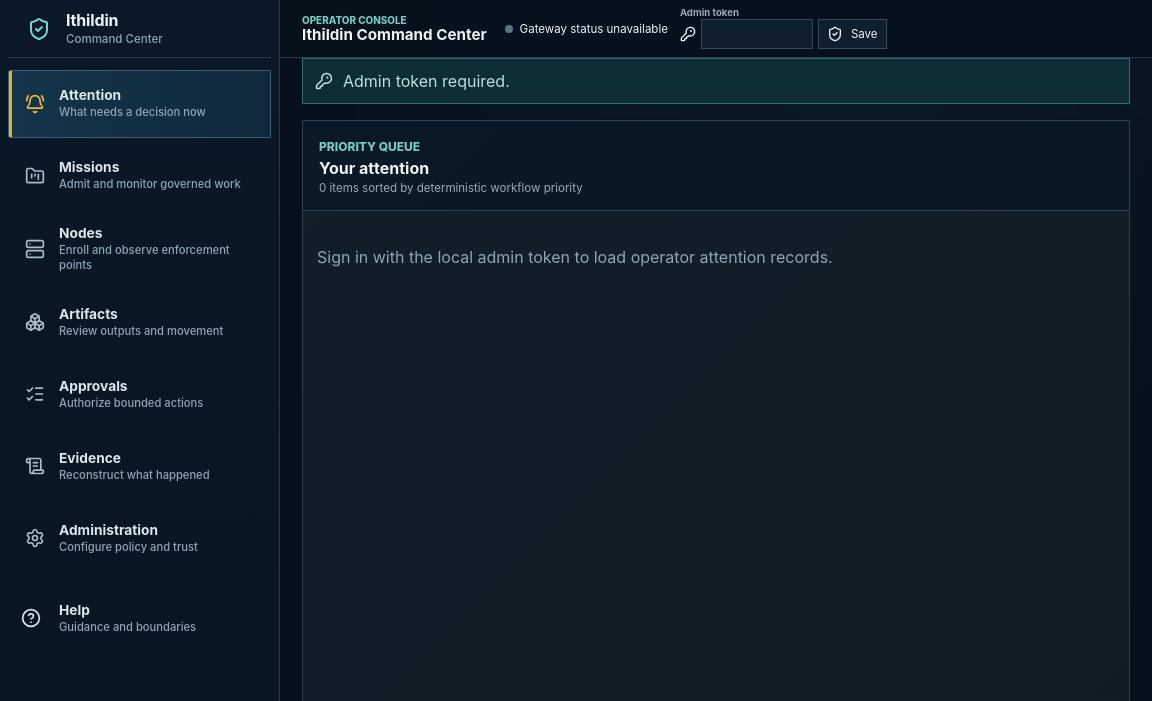
Test: Review console interactions › keeps Node evidence-origin parity unavailable when snapshot loading fails
The image size is (1152, 701).
Type "local-token" into the password field labelled "Admin token". click: (757, 34)
box: [701,19,813,49]
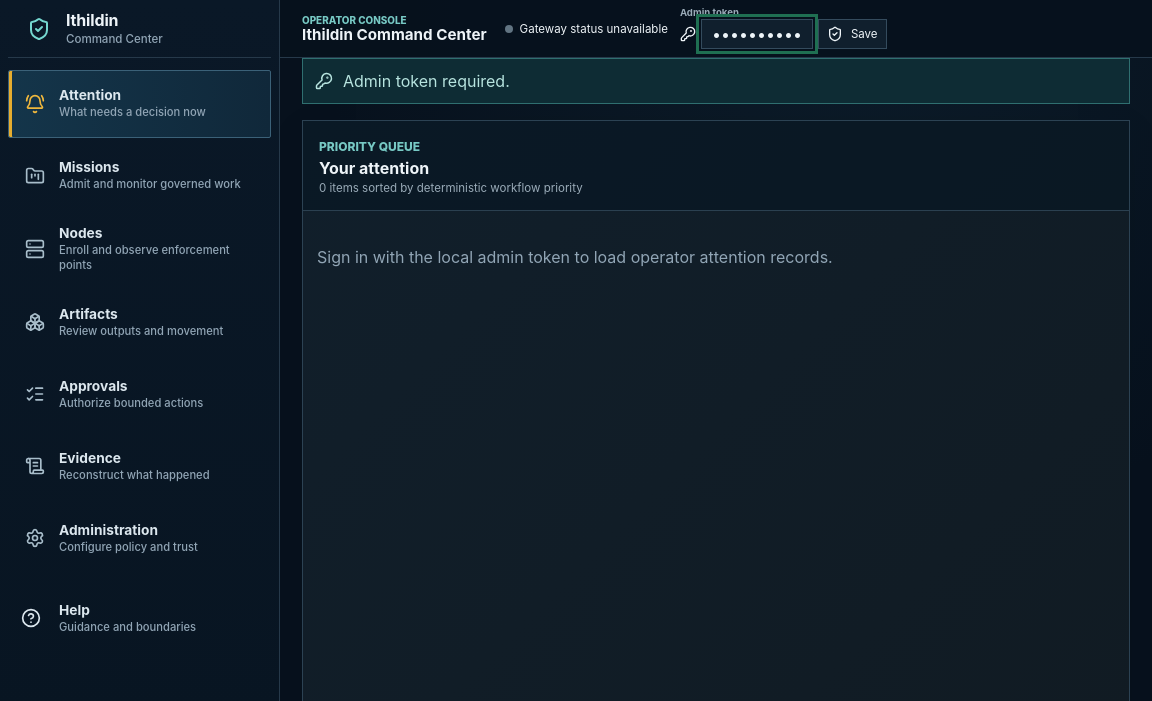
Click the button "Save". click: (852, 34)
box: [818,19,887,49]
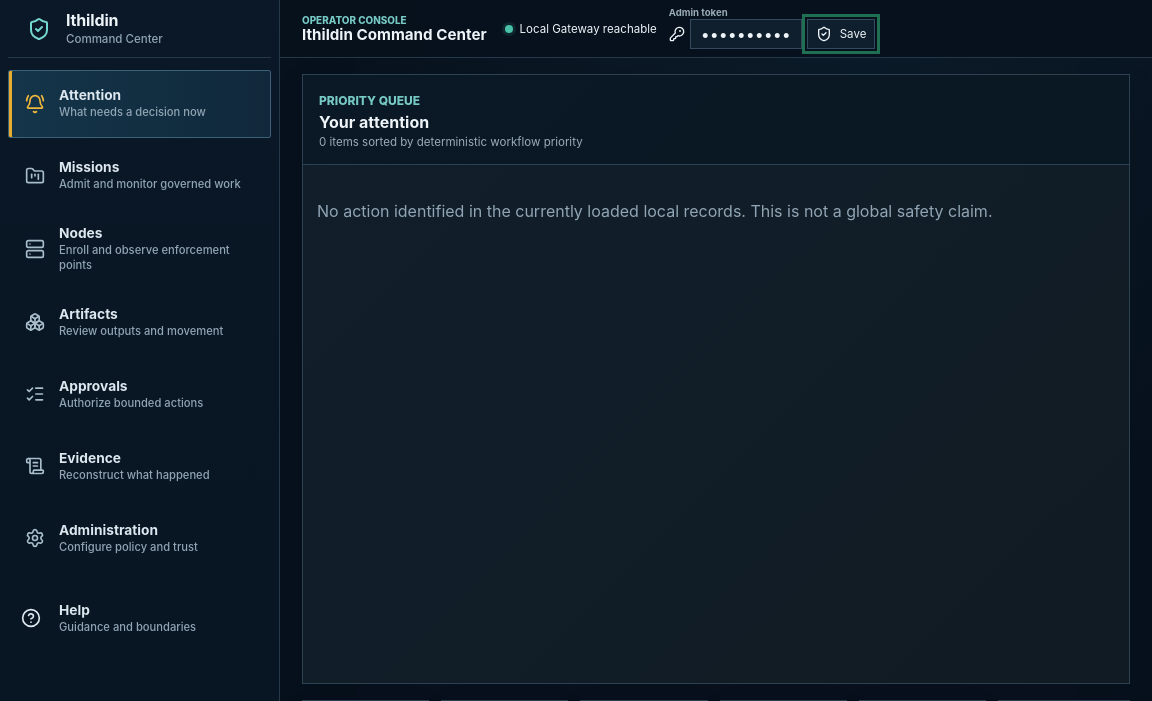
Click the link "Missions Admit and monitor governed work". click: (133, 175)
box: [25,159,241,191]
(page scrolled)
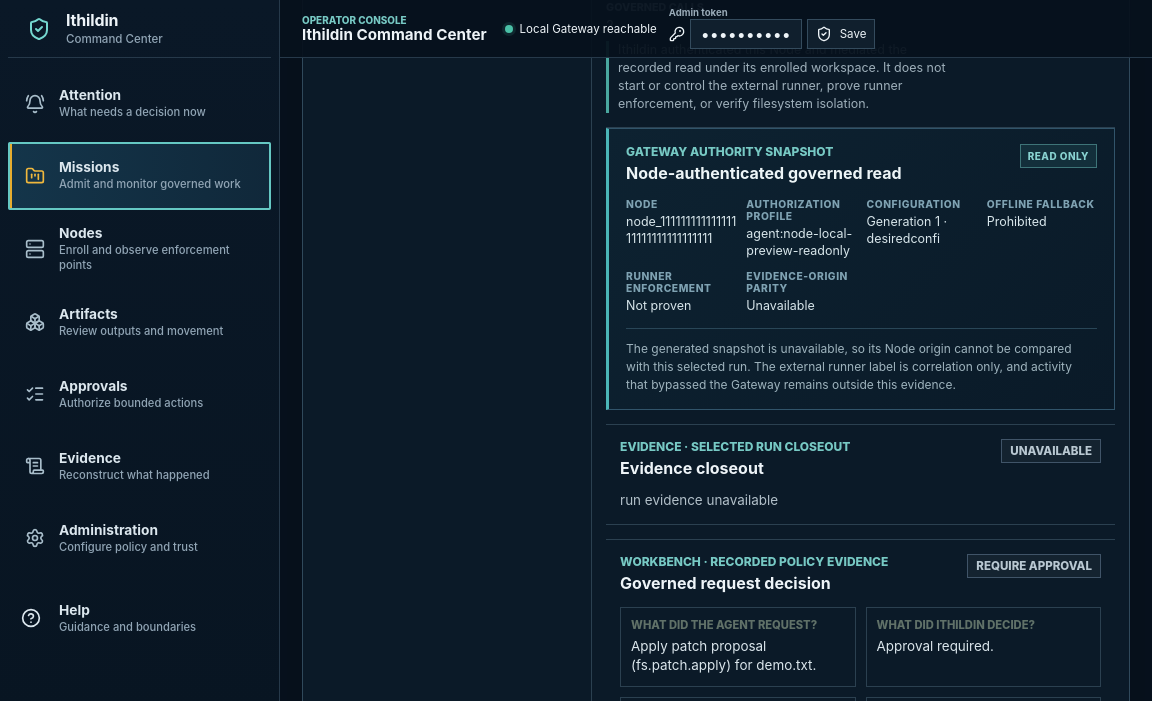
expect the text "Unavailable" is shown: met, box [746,298,815,313]
expect the text "cannot be compared with this selected run" is shown: met, box [626,341,1072,374]
